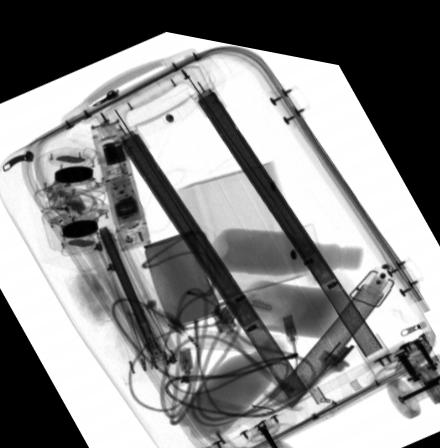Baton: (89, 114, 152, 246)
